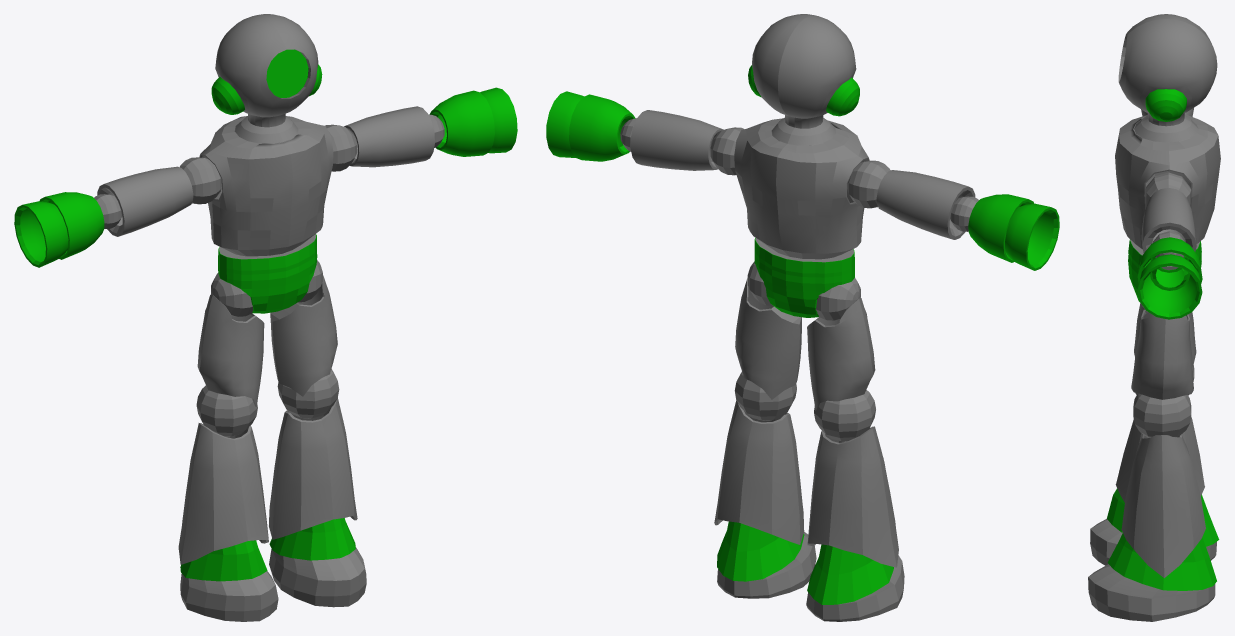
Rendered from Enemy_Robot_V2.FBX.
The picture shows the model from 3 angles, left to right: view 1: azimuth 30°, elevation 25°; view 2: azimuth 150°, elevation 25°; view 3: azimuth 270°, elevation 25°; orthographic projection. The views are drawn at different scales.
Parts seen in each view (by area): view 1: Enemy_Robot_V2; view 2: Enemy_Robot_V2; view 3: Enemy_Robot_V2.
Part boxes in pixels (box(x1,y1,x2,y2)): Enemy_Robot_V2: box(14, 14, 517, 621); Enemy_Robot_V2: box(546, 14, 1059, 621); Enemy_Robot_V2: box(1088, 14, 1220, 621).
Size of the model in its own units: 17.16 by 19.65 by 4.19.
